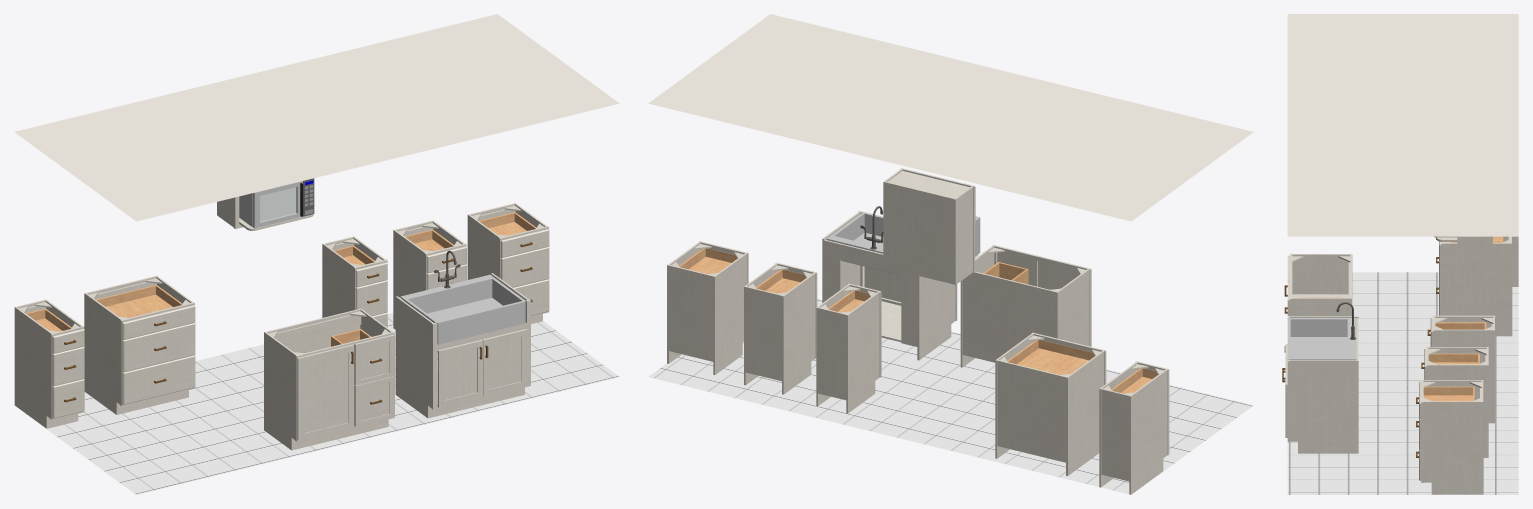
File: Misc_Missing_Cab.dae
3 views of the same model, side by side, from view 1: azimuth 30°, elevation 25°; view 2: azimuth 150°, elevation 25°; view 3: azimuth 270°, elevation 25° (orthographic). The views are drawn at different scales.
Visible parts, largest first — view 1: Ceiling, Floor, FSB36 (×5), VSD36L (×7), DB27-3 (×5), DB12-3 (×3), VDB18 (×4), VDB12 (×2), VDB15 (×2), MWC2730 (×2); view 2: Ceiling, Floor, DB27-3 (×4), VSD36L (×4), FSB36 (×6), MWC2730 (×3), VDB18 (×2), DB12-3 (×3), VDB15 (×2), VDB12 (×2); view 3: Ceiling, Floor, FSB36 (×2), VDB18 (×4), DB27-3, VSD36L (×2), VDB12 (×3), VDB15 (×3), MWC2730, DB12-3.
Boxes of the visible parts, bbox=[...] form: Ceiling: bbox=[14, 14, 619, 221]; Floor: bbox=[14, 313, 619, 494]; FSB36 (×5): bbox=[395, 277, 525, 418]; VSD36L (×7): bbox=[264, 309, 389, 450]; DB27-3 (×5): bbox=[84, 293, 195, 414]; DB12-3 (×3): bbox=[14, 306, 84, 428]; VDB18 (×4): bbox=[467, 214, 549, 315]; VDB12 (×2): bbox=[322, 243, 387, 317]; VDB15 (×2): bbox=[393, 229, 466, 329]; MWC2730 (×2): bbox=[253, 181, 302, 228]; Ceiling: bbox=[648, 14, 1253, 221]; Floor: bbox=[648, 299, 1253, 494]; DB27-3 (×4): bbox=[995, 333, 1104, 475]; VSD36L (×4): bbox=[960, 246, 1089, 367]; FSB36 (×6): bbox=[822, 212, 955, 360]; MWC2730 (×3): bbox=[885, 171, 973, 284]; VDB18 (×2): bbox=[669, 253, 746, 374]; DB12-3 (×3): bbox=[1099, 362, 1167, 494]; VDB15 (×2): bbox=[745, 273, 815, 394]; VDB12 (×2): bbox=[818, 292, 879, 413]; Ceiling: bbox=[1287, 14, 1518, 236]; Floor: bbox=[1287, 272, 1518, 494]; FSB36 (×2): bbox=[1287, 318, 1358, 453]; VDB18 (×4): bbox=[1423, 380, 1483, 494]; DB27-3: bbox=[1443, 243, 1512, 336]; VSD36L (×2): bbox=[1292, 254, 1352, 316]; VDB12 (×3): bbox=[1435, 315, 1495, 423]; VDB15 (×3): bbox=[1428, 347, 1488, 457]; MWC2730: bbox=[1459, 236, 1492, 247]; DB12-3: bbox=[1512, 236, 1518, 286].
Bounding box in the file's own units: 178 × 79.62 × 96.
15 materials, 5 textured.
